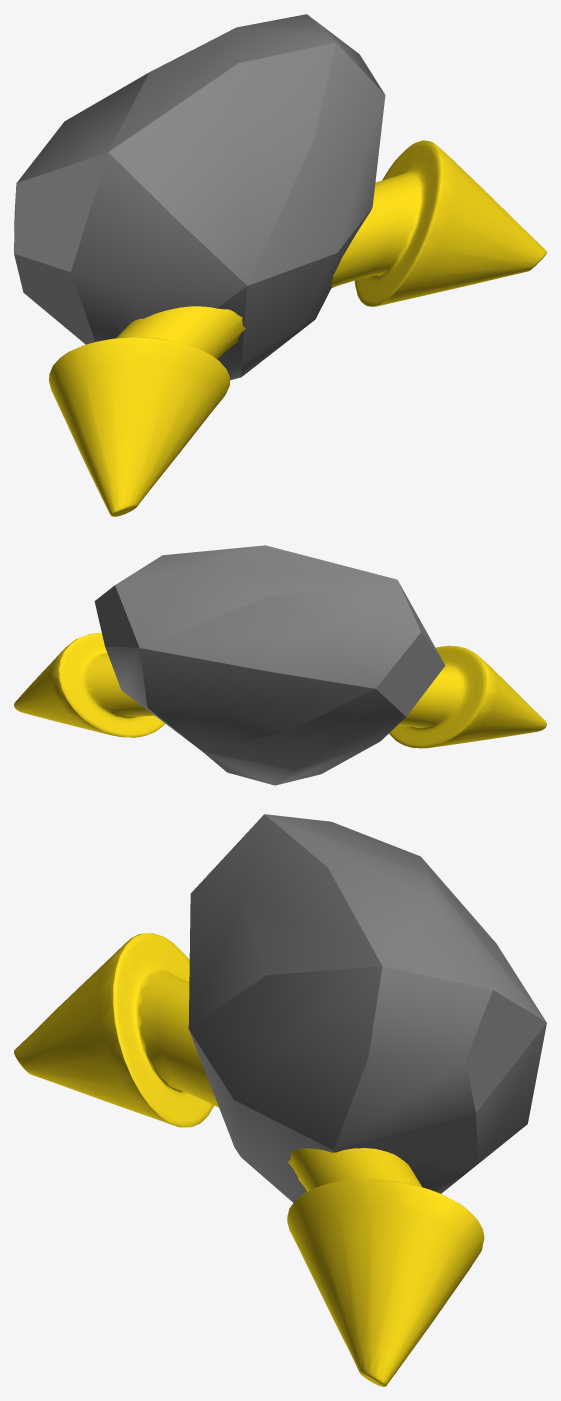
The picture shows the model from 3 angles, top to bottom: view 1: azimuth 30°, elevation 25°; view 2: azimuth 150°, elevation 25°; view 3: azimuth 270°, elevation 25°; orthographic projection. The views are drawn at different scales.
Visible parts, largest first — view 1: Nose.001, Elec_Nose_001; view 2: Nose.001, Elec_Nose_001; view 3: Nose.001, Elec_Nose_001.
Part boxes in pixels (x1,y1,x2,y2): Nose.001: [14, 14, 385, 380]; Elec_Nose_001: [49, 140, 546, 516]; Nose.001: [94, 545, 445, 785]; Elec_Nose_001: [14, 633, 546, 748]; Nose.001: [188, 814, 546, 1202]; Elec_Nose_001: [14, 933, 484, 1386].
Size of the model in its own units: 15.59 by 10.59 by 8.
